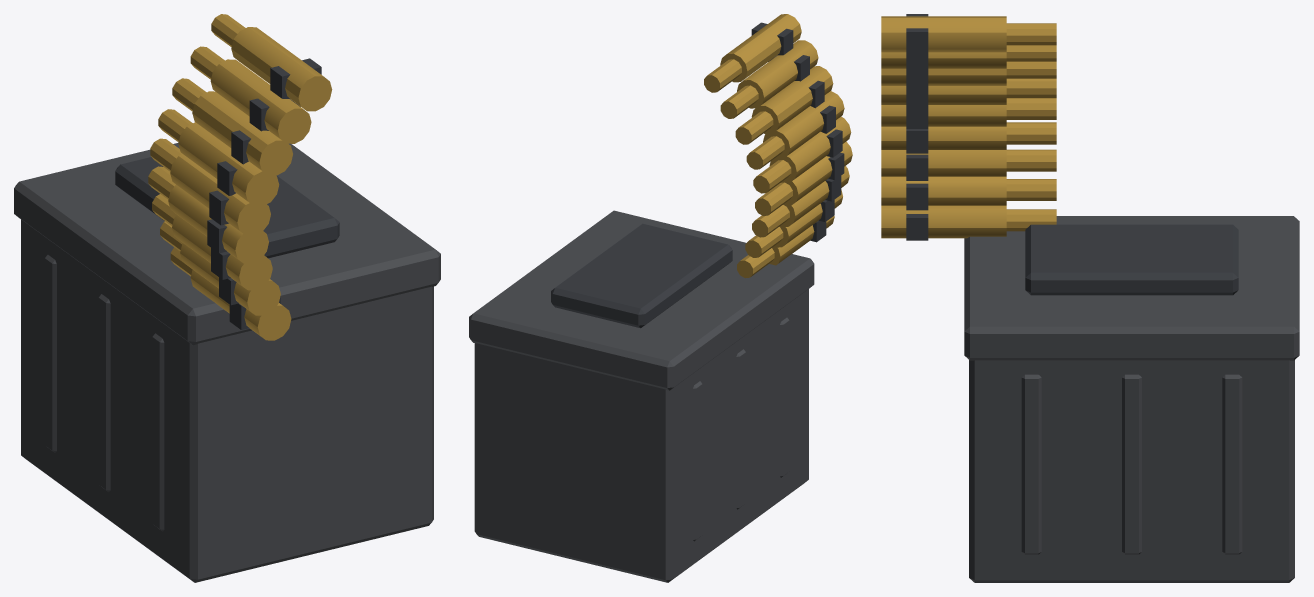
The model's file is mod_gale_box_100.glb.
The picture shows the model from 3 angles, left to right: view 1: azimuth 30°, elevation 25°; view 2: azimuth 150°, elevation 25°; view 3: azimuth 270°, elevation 25°; orthographic projection. The views are drawn at different scales.
Visible parts, largest first — view 1: AmmoBox, AmmoBoxBelt; view 2: AmmoBox, AmmoBoxBelt; view 3: AmmoBox, AmmoBoxBelt.
Boxes of the visible parts, x1,y1,x2,y2 form: AmmoBox: (14, 142, 440, 582); AmmoBoxBelt: (148, 14, 332, 340); AmmoBox: (469, 210, 814, 582); AmmoBoxBelt: (704, 14, 852, 278); AmmoBox: (964, 216, 1299, 582); AmmoBoxBelt: (881, 14, 1056, 240).
Size of the model in its own units: 0.088 by 0.1788 by 0.1335.
